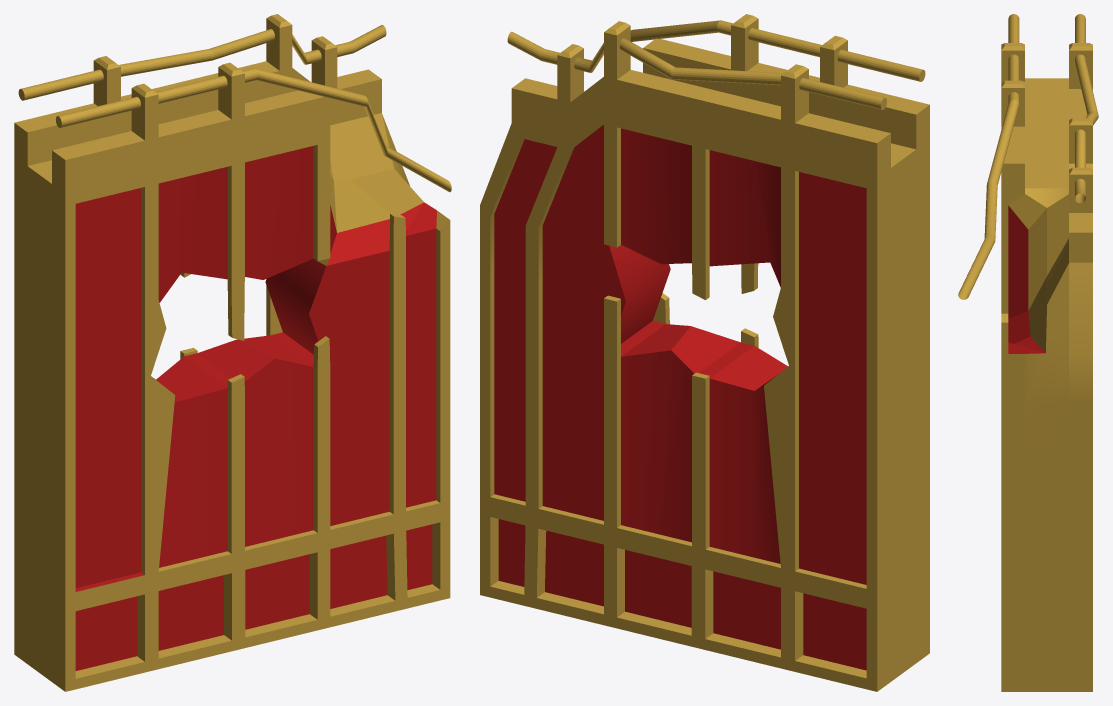
File: WallBroken.fbx
3 views of the same model, side by side, from view 1: azimuth 30°, elevation 25°; view 2: azimuth 150°, elevation 25°; view 3: azimuth 270°, elevation 25° (orthographic). The views are drawn at different scales.
Parts seen in each view (by area): view 1: msh_wall_broken; view 2: msh_wall_broken; view 3: msh_wall_broken.
Part boxes in pixels (left/top/right/bottom): msh_wall_broken: left=14, top=14, right=451, bottom=691; msh_wall_broken: left=480, top=14, right=929, bottom=691; msh_wall_broken: left=958, top=14, right=1098, bottom=691.
Bounding box in the file's own units: 3.79 × 5.44 × 1.34.
